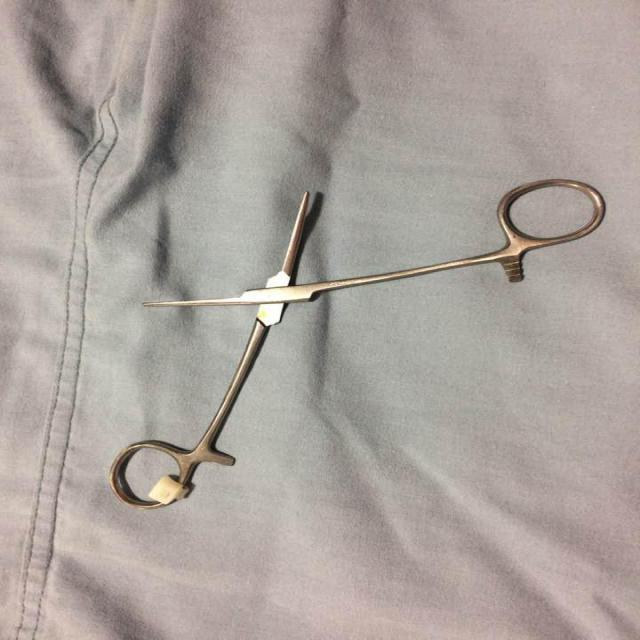Hemostat: (107, 173, 609, 514)
